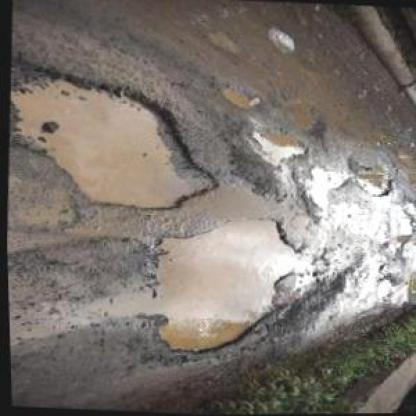pothole: (3, 54, 226, 215), (140, 209, 313, 360), (246, 122, 310, 164), (345, 166, 395, 200), (281, 100, 326, 136), (215, 83, 259, 111), (392, 209, 414, 250), (370, 278, 400, 300)
